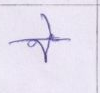e_matra: (39, 14, 58, 37)
